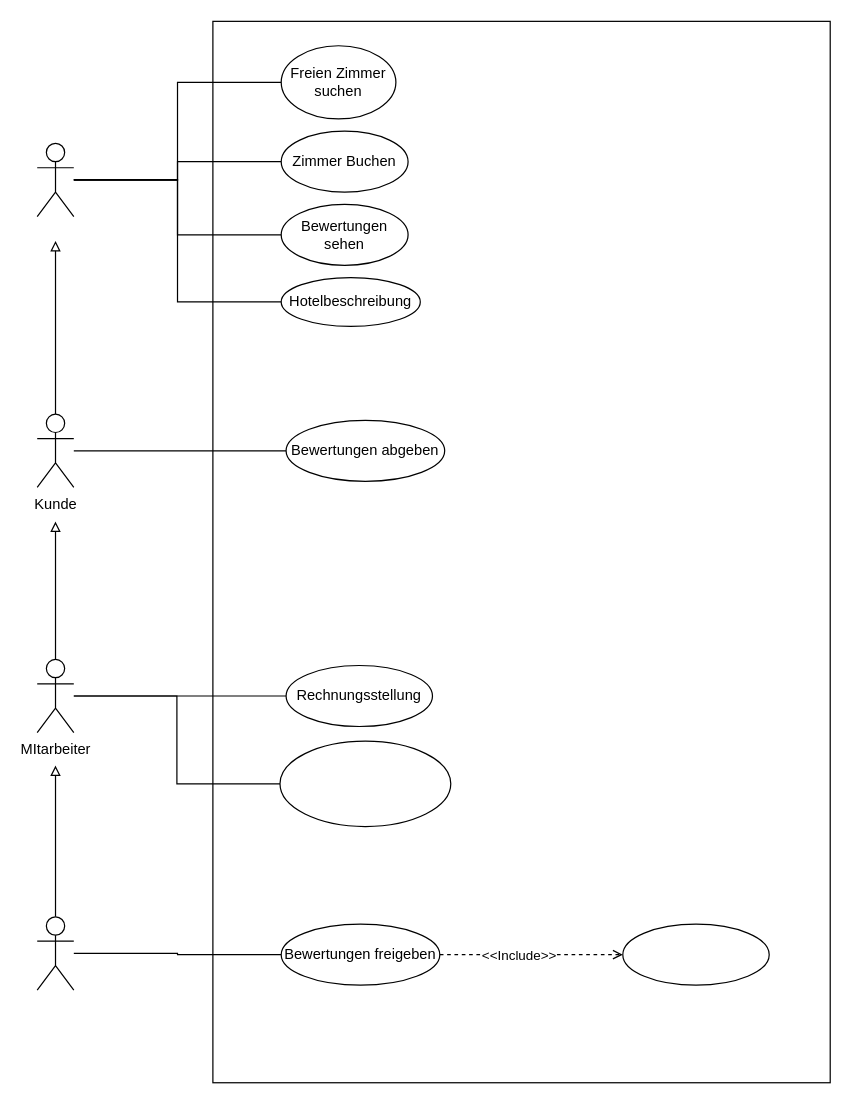
The diagram is 852 pixels wide and 1104 high, and some of its shapes have lost their labels. The centre of each missing label's shape, as x and y in pixels:
Admin: point (55, 953)
Bewertungen Prüfen: point (695, 954)
Eintragung oder Änderung an der Datenbank: point (365, 783)
Gast: point (55, 179)
